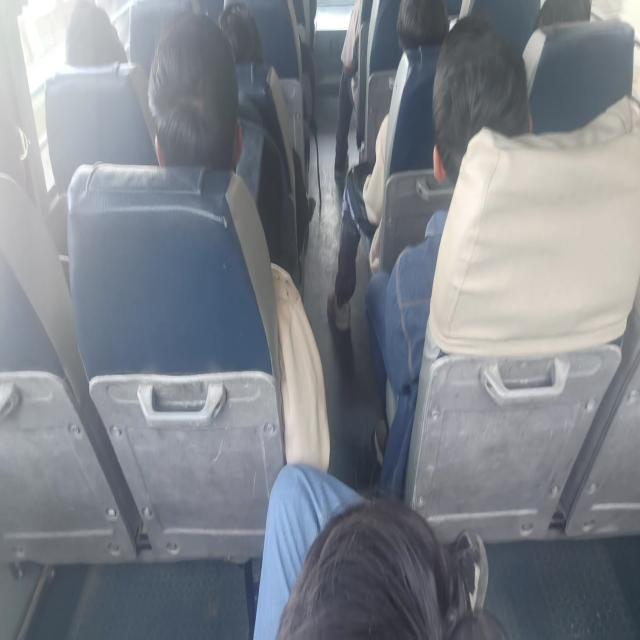person: (269, 500, 527, 640), (145, 25, 249, 193), (437, 27, 523, 193), (52, 0, 125, 69), (386, 0, 452, 69), (208, 0, 273, 69), (0, 104, 37, 188), (539, 0, 600, 47)
